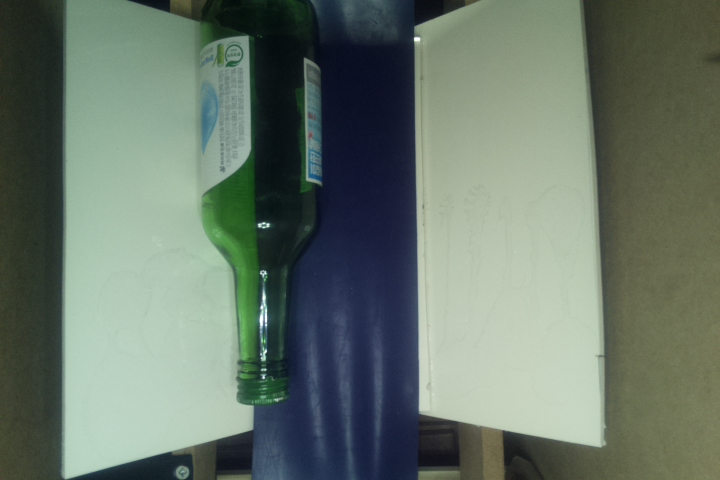soju: (199, 1, 325, 408)
